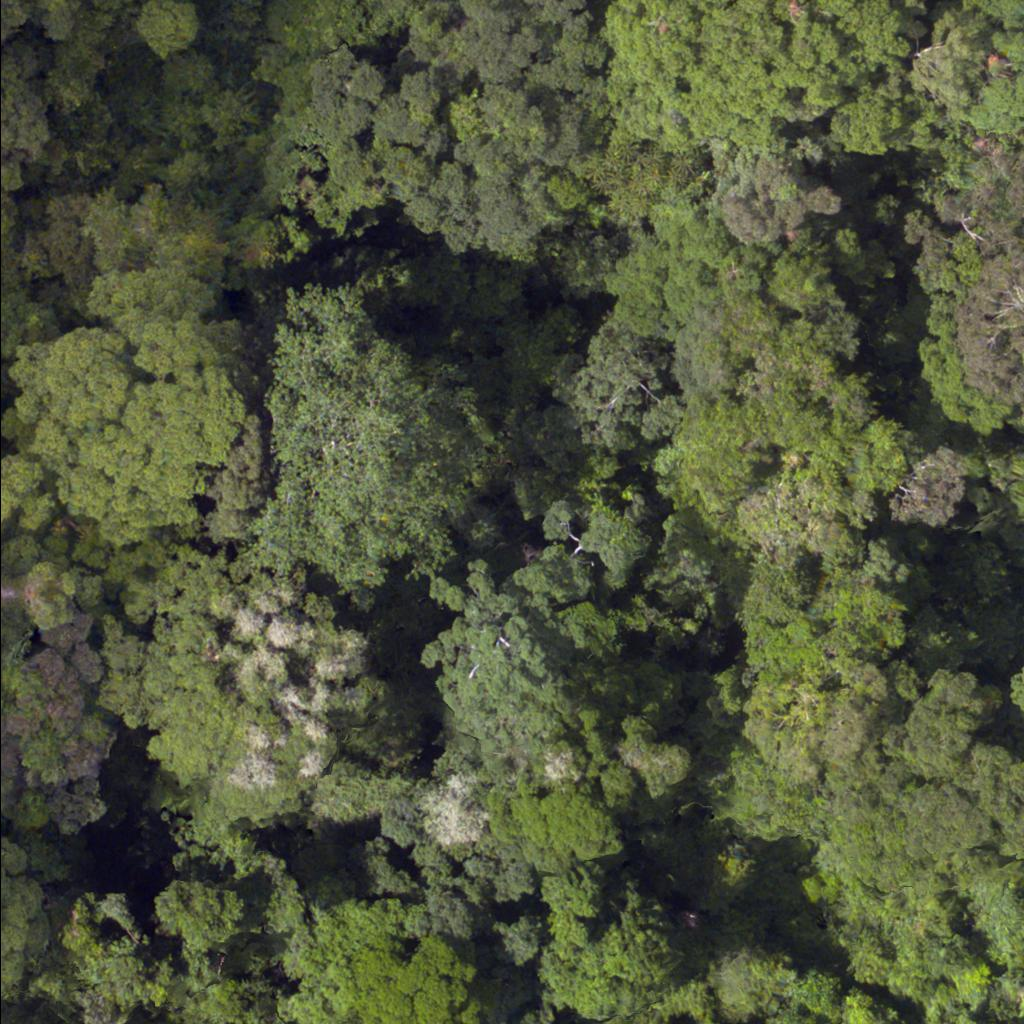crown: (92, 549, 372, 847), (240, 287, 496, 591), (315, 0, 603, 264), (0, 274, 236, 528), (603, 0, 928, 157), (912, 156, 1023, 398), (567, 100, 704, 233), (558, 323, 688, 457), (707, 137, 851, 247), (923, 301, 1006, 434), (205, 416, 267, 542), (0, 869, 50, 1000), (0, 52, 40, 186), (134, 0, 198, 56), (0, 0, 30, 43), (1012, 668, 1023, 714), (0, 607, 3, 627)
